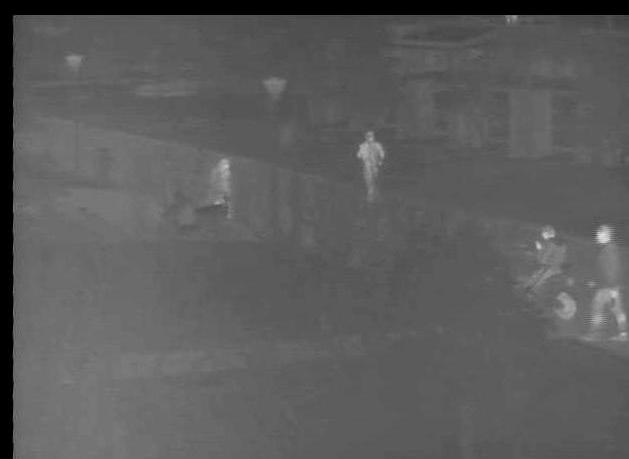people: (585, 223, 627, 343)
